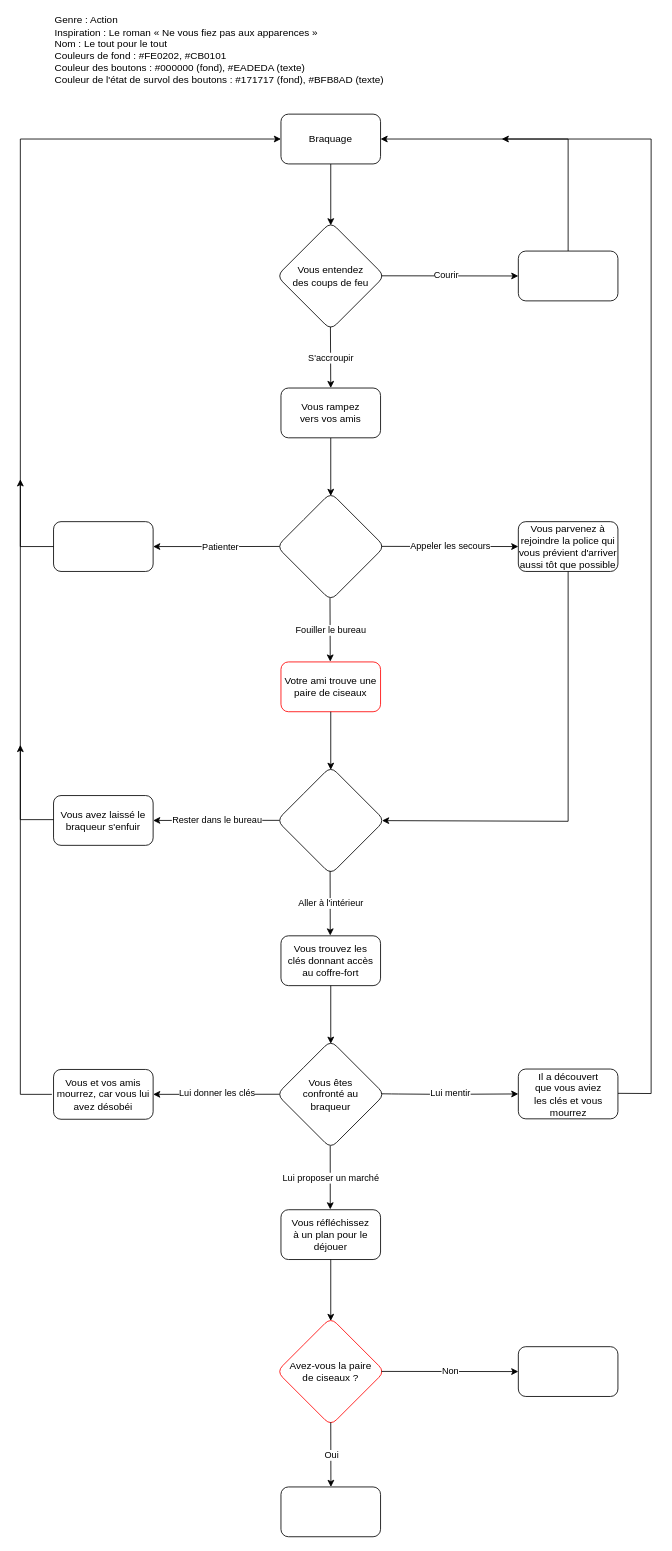
Image size: 672x1551. Some labels were removed from this diagram. The shapes that lost their labels are listed below. From the top down, each one's box as (x1, y1, x2, y2) in pixels, then its label:
(518, 250, 618, 301): Vous mourrez tiré par une balle
(53, 521, 153, 571): Vous n'arrivez pas à arrêter le braqueur
(276, 492, 385, 601): On vous embarre dans un bureau avec vos amis
(276, 766, 385, 874): Vous trouvez une trappe au plafond
(518, 1346, 618, 1396): Il ne vous fait plus confiance, vous et vos amis mourrez
(280, 1486, 381, 1537): Vous le poignardez, puis sauvez tous les détenus
